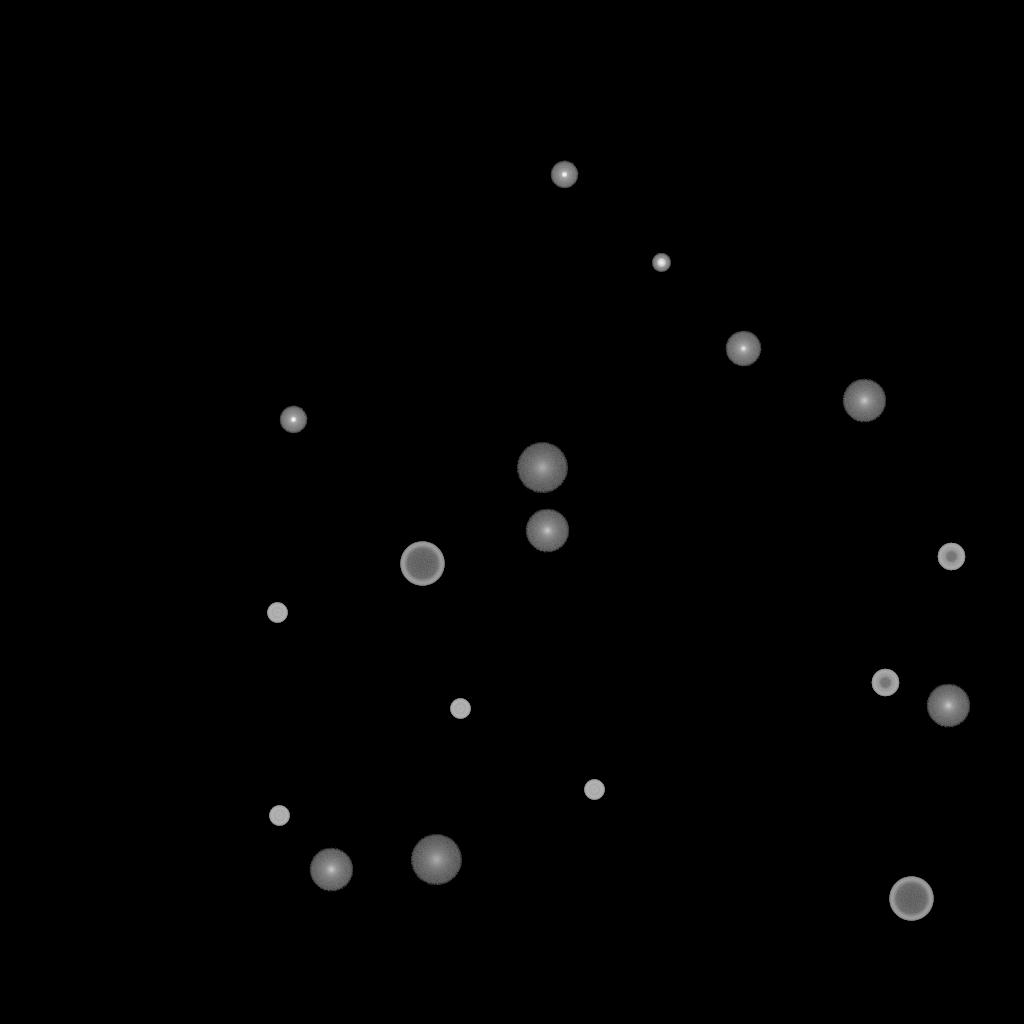depth:-10: (279, 406, 307, 434), (550, 161, 578, 189)
depth:-20: (652, 254, 670, 272)
depth:-40: (267, 603, 287, 623), (450, 699, 470, 719), (584, 780, 604, 800), (269, 806, 289, 826)
depth:-50: (937, 543, 965, 571), (871, 669, 899, 697)
depth:-70: (889, 877, 933, 921), (400, 542, 444, 586)
depth:0: (725, 331, 761, 367)
depth:10: (842, 379, 886, 423), (309, 848, 353, 892), (926, 684, 970, 728), (525, 509, 569, 553)
depth:20: (410, 835, 462, 885), (516, 443, 568, 493)
